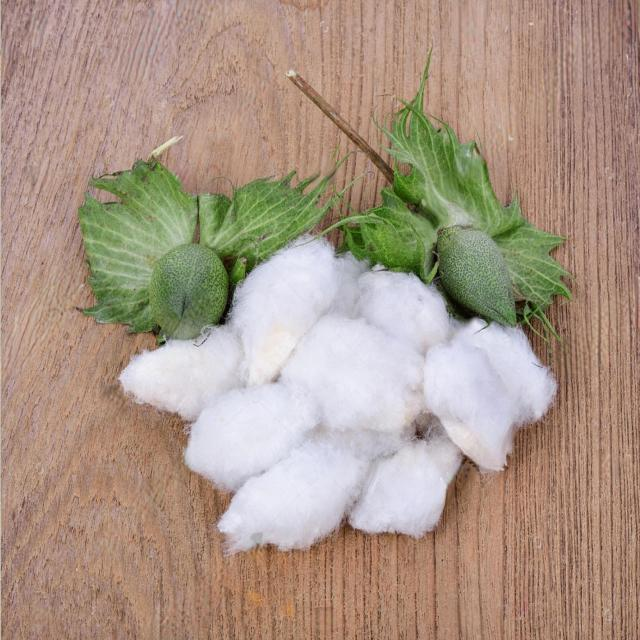Early_blight: (282, 318, 425, 431), (233, 233, 338, 386), (229, 442, 371, 548), (183, 384, 315, 493), (425, 339, 520, 473), (120, 329, 241, 417), (348, 447, 463, 537), (471, 319, 557, 424), (359, 268, 452, 347)
